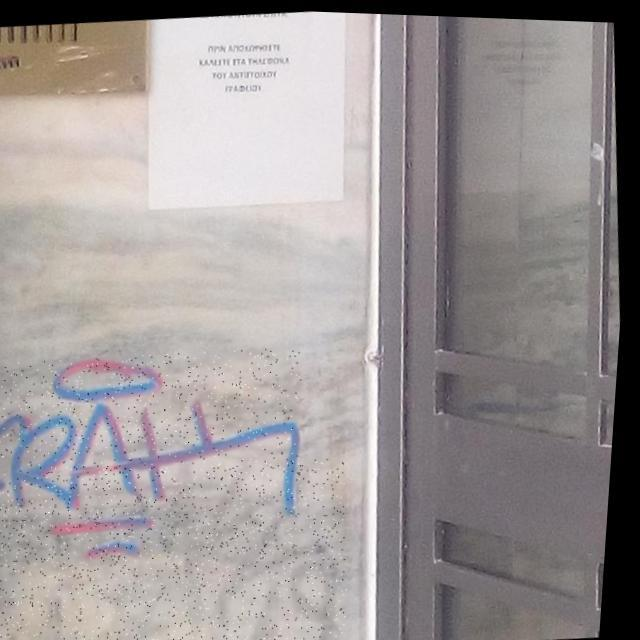-: (0, 335, 323, 576), (0, 440, 367, 640)
